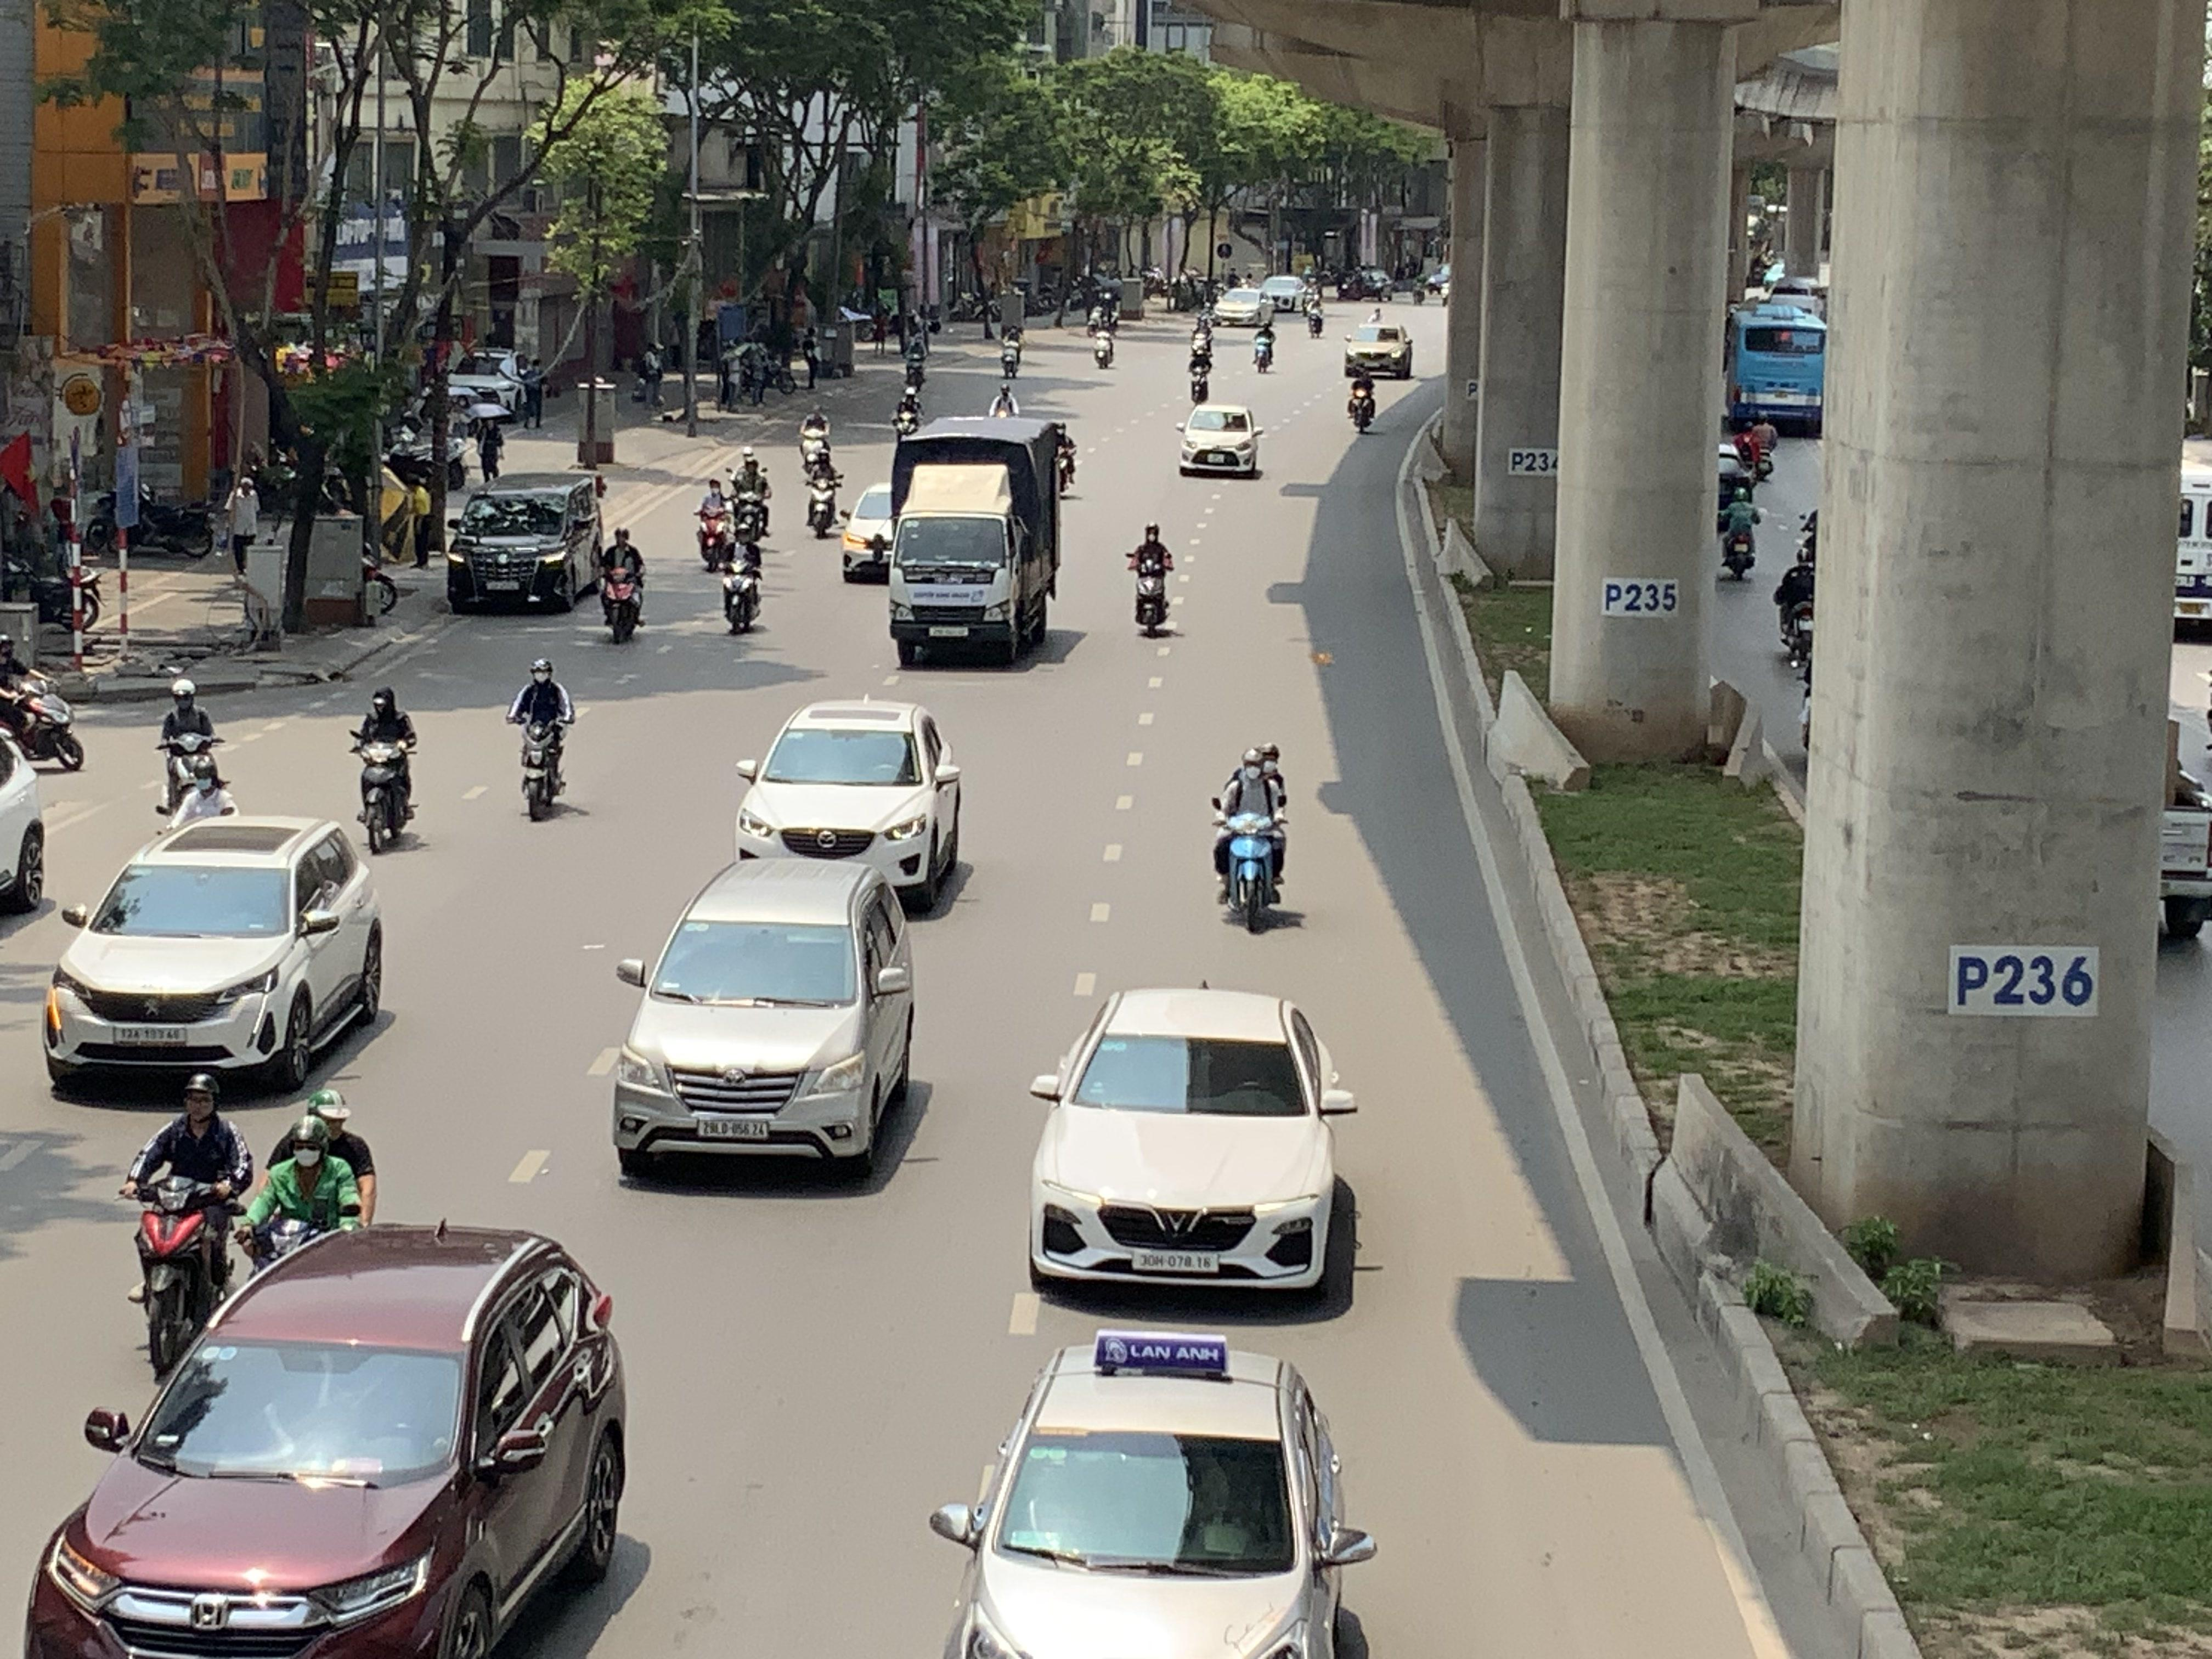BSD: (1132, 1249, 1219, 1270), (697, 1121, 770, 1140), (115, 1026, 186, 1042)
car: (23, 1220, 632, 1659), (927, 1333, 1379, 1659), (1024, 985, 1360, 1305), (611, 856, 921, 1185), (40, 814, 387, 1100), (733, 699, 965, 911), (444, 476, 604, 613), (0, 711, 49, 946), (1177, 404, 1263, 477), (838, 483, 895, 582), (1343, 321, 1414, 378), (1214, 284, 1275, 328)
motorbike: (124, 1073, 253, 1378), (1212, 742, 1291, 934), (350, 687, 420, 854), (0, 633, 84, 770), (153, 680, 235, 819), (510, 657, 575, 821), (597, 526, 648, 645), (1125, 519, 1176, 636), (1773, 540, 1817, 674), (719, 525, 765, 634), (1717, 471, 1761, 580), (728, 448, 772, 538), (693, 479, 733, 572), (803, 450, 843, 538), (798, 406, 834, 479), (1345, 357, 1378, 434), (1184, 333, 1214, 403), (1089, 301, 1118, 369), (892, 380, 923, 439), (998, 319, 1026, 380), (1251, 314, 1277, 373)
truck: (885, 415, 1068, 667)
